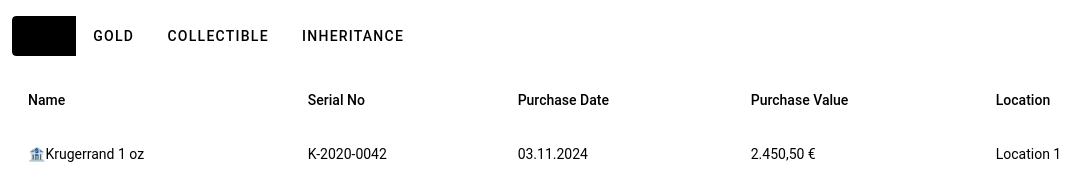
Test: EntryList › shows an empty table body rather than an error when a category has no entries
Click the button "Inheritance" at (352, 36), box 285,16 -> 420,56
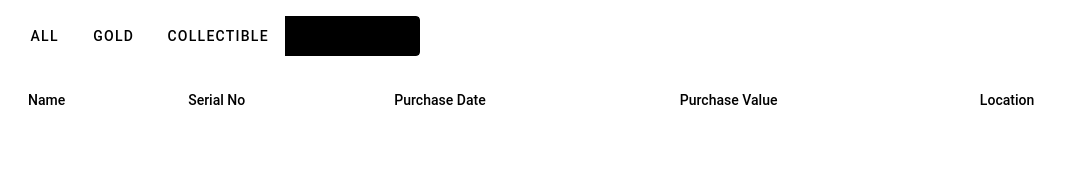
Now no rows are shown
